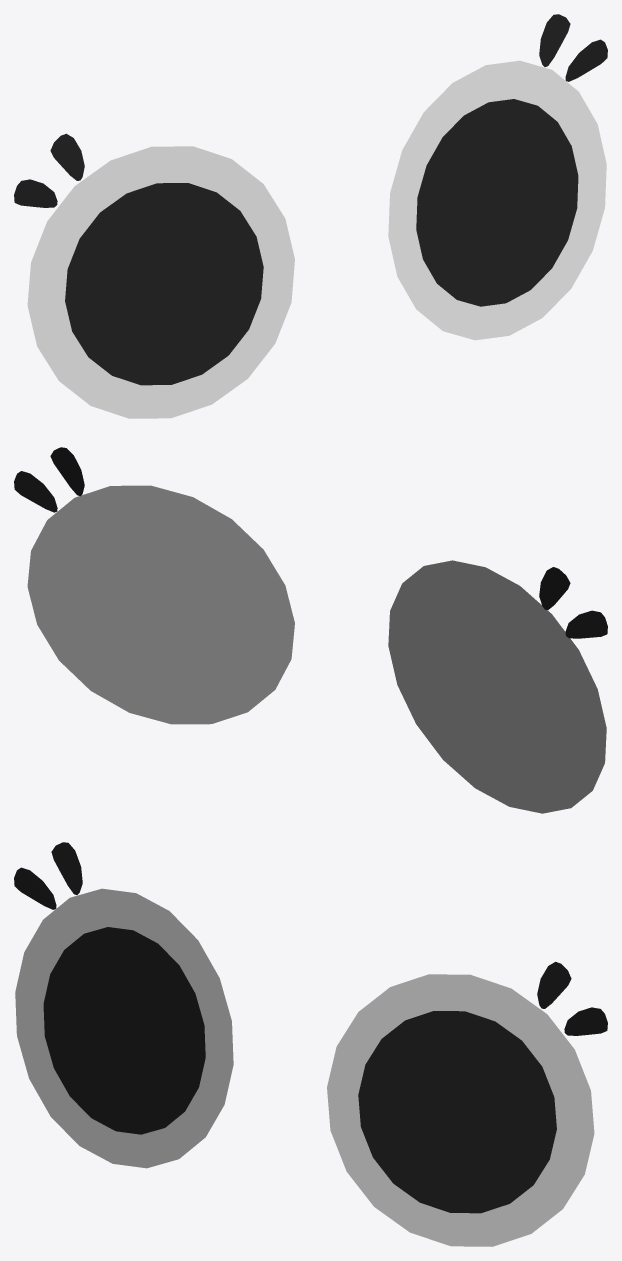
File: eye_2.fbx
The picture shows the model from 3 angles, top to bottom: view 1: azimuth 30°, elevation 25°; view 2: azimuth 150°, elevation 25°; view 3: azimuth 330°, elevation 25°; orthographic projection.
Visible parts, largest first — view 1: eye_2; view 2: eye_2; view 3: eye_2.
Part boxes in pixels (<box>): eye_2: <box>14,14,607,418</box>; eye_2: <box>14,447,607,813</box>; eye_2: <box>14,842,607,1246</box>.
Size of the model in its own units: 1.01 by 0.4565 by 0.1059.
